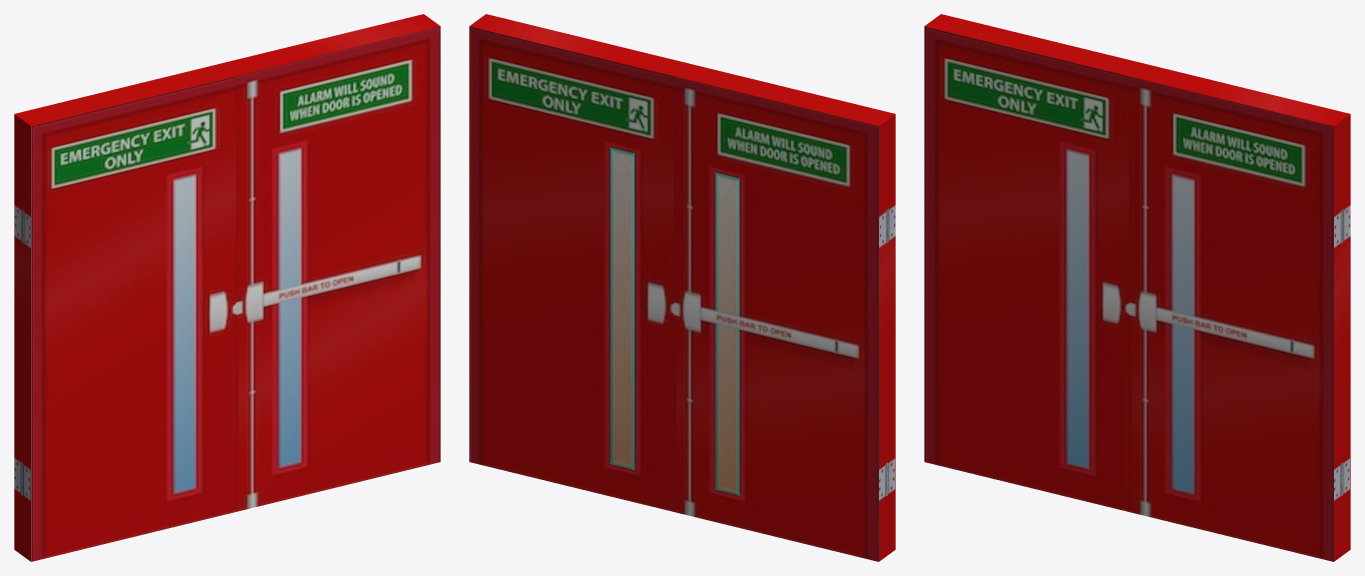
Rendered from Puerta_CC_DC.fbx.
The picture shows the model from 3 angles, left to right: view 1: azimuth 30°, elevation 25°; view 2: azimuth 150°, elevation 25°; view 3: azimuth 330°, elevation 25°; orthographic projection.
Visible parts, largest first — view 1: Puerta2_CC_DC, Puerta1_CC_DC; view 2: Puerta2_CC_DC, Puerta1_CC_DC; view 3: Puerta1_CC_DC, Puerta2_CC_DC.
Part boxes in pixels (<box>): Puerta2_CC_DC: <box>14,64,235,561</box>; Puerta1_CC_DC: <box>219,14,440,511</box>; Puerta2_CC_DC: <box>674,64,895,561</box>; Puerta1_CC_DC: <box>469,14,690,511</box>; Puerta1_CC_DC: <box>1129,64,1350,561</box>; Puerta2_CC_DC: <box>924,14,1145,511</box>.
Bounding box in the file's own units: 401 × 407 × 28.61.
Materials: 2 (2 with a texture image).
